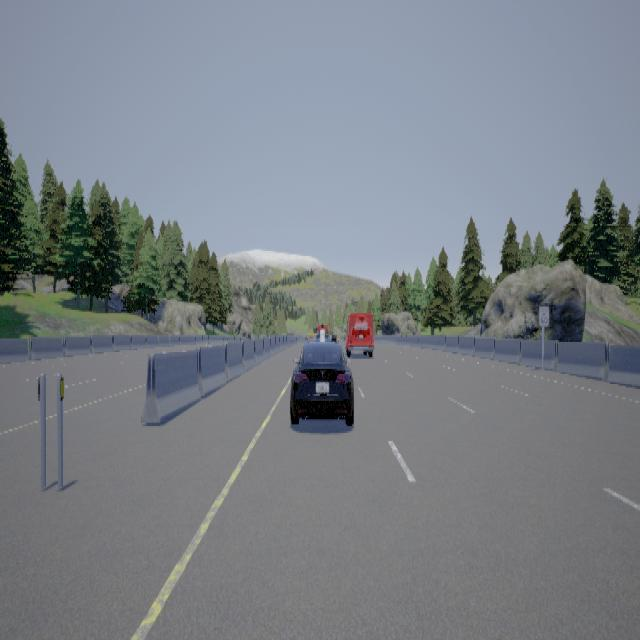traffic_sign: (538, 305, 548, 325)
vehicle: (289, 324, 353, 424), (344, 312, 375, 356)
